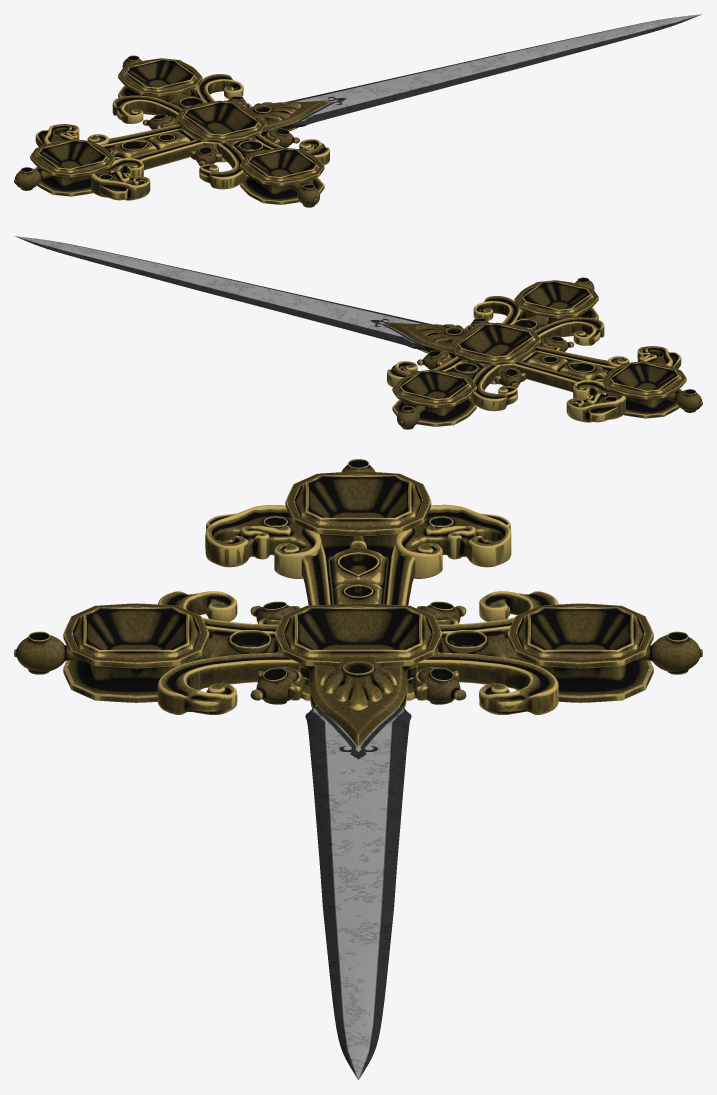
The model's file is sf-knife-ee27b8ed.glb.
3 renders of one model, top to bottom at view 1: azimuth 30°, elevation 25°; view 2: azimuth 150°, elevation 25°; view 3: azimuth 270°, elevation 25°, orthographic. The views are drawn at different scales.
Visible parts, largest first — view 1: Dagger_2; view 2: Dagger_2; view 3: Dagger_2.
Boxes of the visible parts, x1,y1,x2,y2 form: Dagger_2: (14,14,701,207); Dagger_2: (15,236,702,429); Dagger_2: (14,459,702,1080).
Bounding box in the file's own units: 6 × 0.3877 × 2.86.
2 materials, 2 textured.
